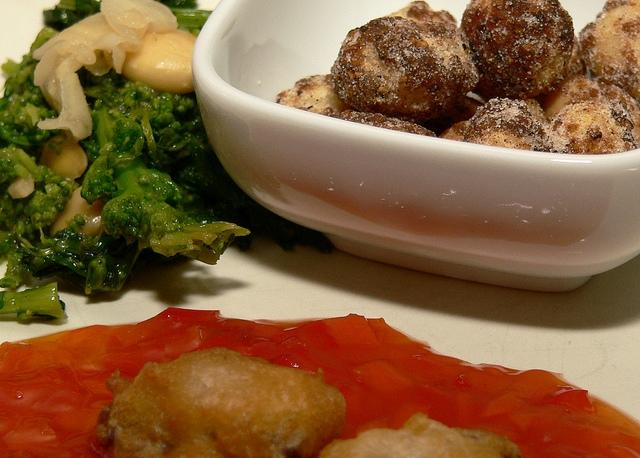broccoli: (75, 64, 248, 266), (0, 144, 80, 288), (15, 215, 130, 295), (0, 82, 61, 148), (0, 281, 69, 320), (42, 1, 100, 32), (168, 7, 213, 37)
